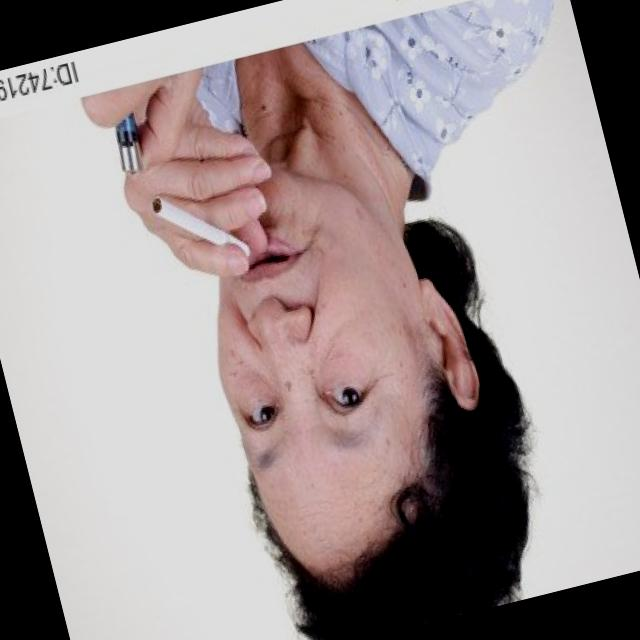smoke: (147, 175, 256, 284)
